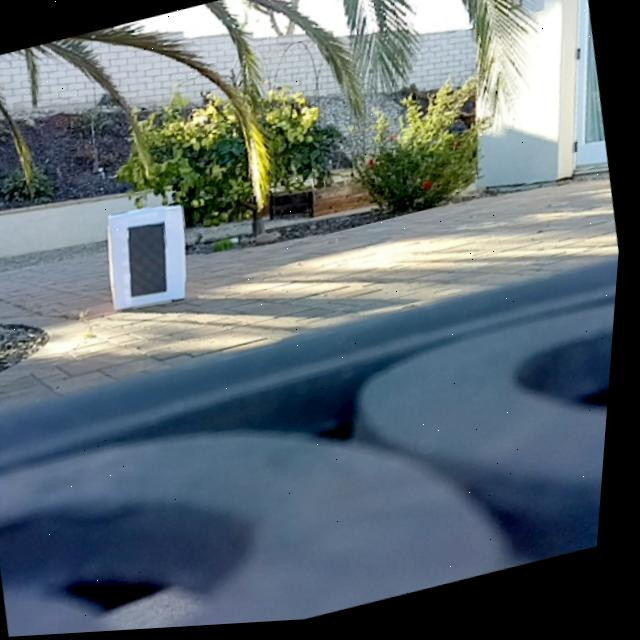led: (127, 217, 185, 303)
